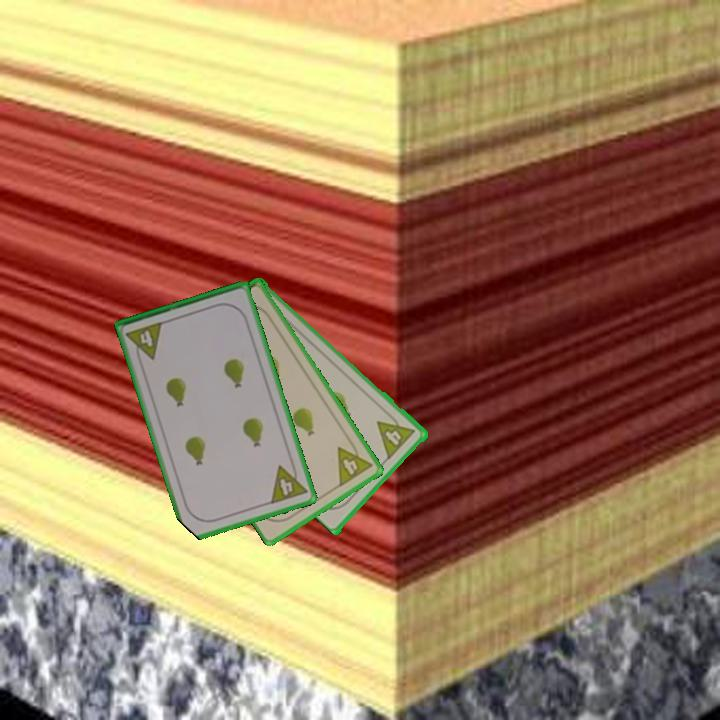4p: (374, 408, 419, 461), (334, 436, 375, 490), (267, 458, 310, 507), (123, 318, 166, 366)
